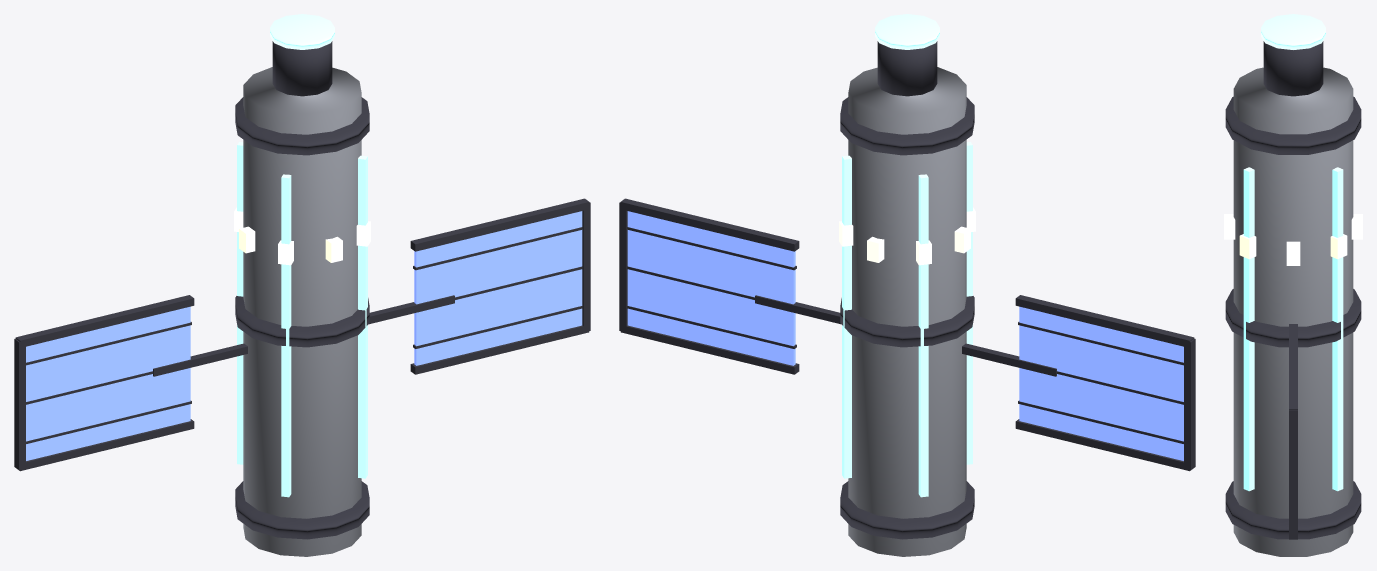
Rendered from prop-station.glb.
3 renders of one model, left to right at view 1: azimuth 30°, elevation 25°; view 2: azimuth 150°, elevation 25°; view 3: azimuth 270°, elevation 25°, orthographic.
Parts seen in each view (by area): view 1: 主舱段, 电池板1, 电池板-1, 法兰环, 法兰环.002, 霓虹带2, 法兰环.001, 霓虹带3, 对接口, 板框上1, 板框上-1, 对接口灯环 (+7 smaller); view 2: 主舱段, 电池板1, 电池板-1, 法兰环, 法兰环.002, 霓虹带1, 法兰环.001, 霓虹带0, 对接口, 板框上1, 板框上-1, 对接口灯环 (+7 smaller); view 3: 主舱段, 霓虹带0, 霓虹带3, 法兰环.002, 法兰环, 法兰环.001, 对接口, 对接口灯环, 板框外1, 板框上1, 舷窗1, 舷窗7 (+3 smaller).
Boxes of the visible parts, x1,y1,x2,y2 form: 主舱段: [243, 67, 361, 556]; 电池板1: [414, 211, 582, 365]; 电池板-1: [26, 306, 190, 460]; 法兰环: [235, 481, 369, 539]; 法兰环.002: [235, 97, 369, 155]; 霓虹带2: [281, 174, 291, 497]; 法兰环.001: [235, 296, 369, 347]; 霓虹带3: [358, 155, 367, 478]; 对接口: [272, 41, 332, 96]; 板框上1: [410, 198, 589, 251]; 板框上-1: [15, 295, 194, 347]; 对接口灯环: [270, 14, 334, 49]; 主舱段: [848, 67, 966, 556]; 电池板1: [627, 211, 795, 365]; 电池板-1: [1019, 306, 1183, 460]; 法兰环: [840, 481, 974, 539]; 法兰环.002: [840, 97, 974, 155]; 霓虹带1: [918, 174, 928, 497]; 法兰环.001: [840, 296, 974, 347]; 霓虹带0: [842, 155, 851, 478]; 对接口: [877, 41, 937, 96]; 板框上1: [620, 198, 799, 251]; 板框上-1: [1015, 295, 1194, 346]; 对接口灯环: [875, 14, 939, 49]; 主舱段: [1233, 67, 1353, 556]; 霓虹带0: [1332, 167, 1343, 491]; 霓虹带3: [1243, 167, 1254, 491]; 法兰环.002: [1225, 96, 1361, 154]; 法兰环: [1225, 481, 1361, 539]; 法兰环.001: [1225, 289, 1361, 347]; 对接口: [1263, 41, 1323, 96]; 对接口灯环: [1261, 14, 1325, 49]; 板框外1: [1289, 410, 1297, 538]; 板框上1: [1289, 324, 1297, 410]; 舷窗1: [1330, 234, 1347, 259]; 舷窗7: [1239, 234, 1256, 259].
Size of the model in its own units: 24.3 by 20.48 by 5.1.
